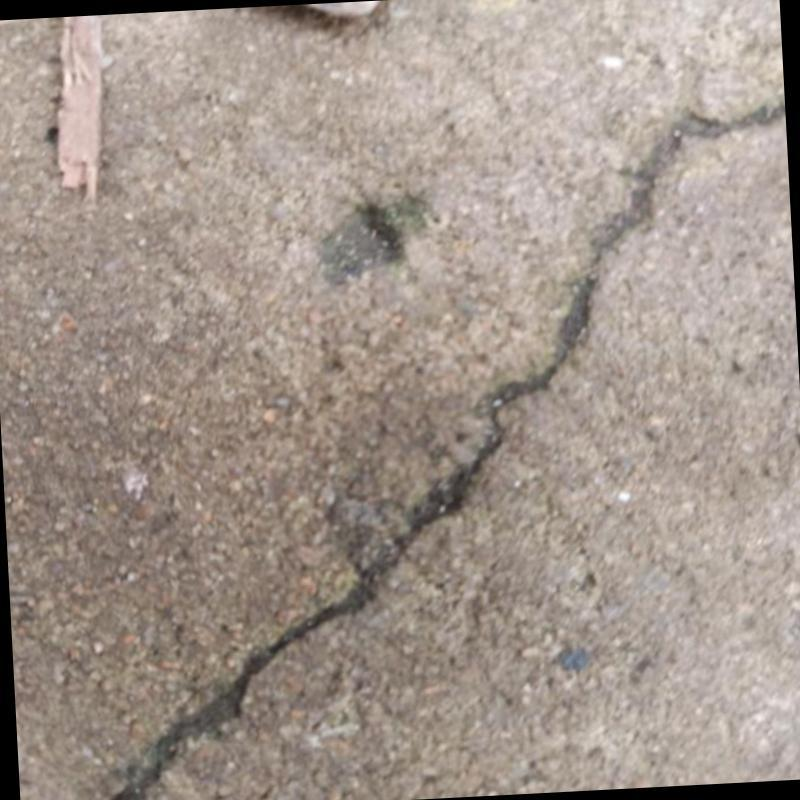pothole: (108, 106, 784, 800)
